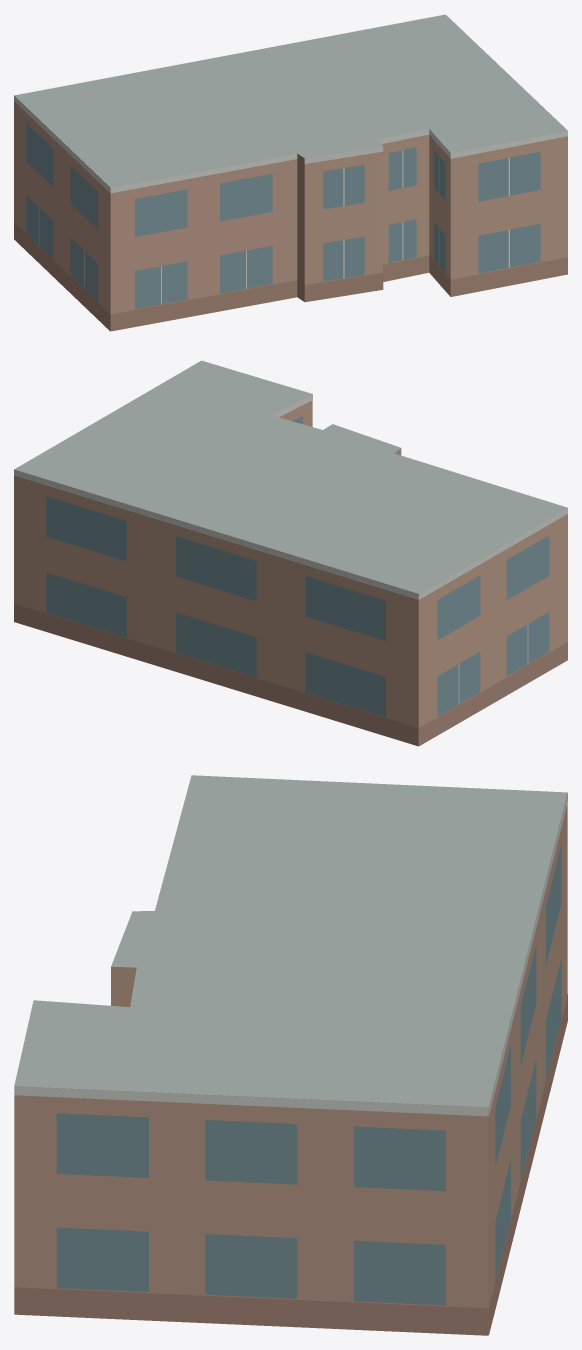
The model's file is survey-upis-32831596.glb.
The picture shows the model from 3 angles, top to bottom: view 1: azimuth 30°, elevation 25°; view 2: azimuth 150°, elevation 25°; view 3: azimuth 270°, elevation 25°; orthographic projection. The views are drawn at different scales.
Visible parts, largest first — view 1: survey-upis-32831596.tmp; view 2: survey-upis-32831596.tmp; view 3: survey-upis-32831596.tmp.
Part boxes in pixels (<box>): survey-upis-32831596.tmp: <box>14,14,567,331</box>; survey-upis-32831596.tmp: <box>14,360,567,746</box>; survey-upis-32831596.tmp: <box>14,775,567,1335</box>.
Size of the model in its own units: 19.03 by 6.1 by 13.41.
